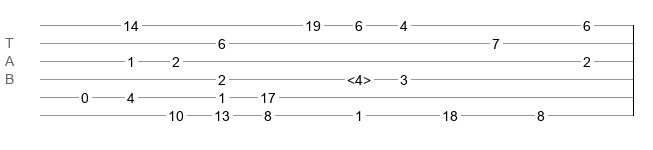0: (81, 90, 89, 100)
1: (127, 54, 135, 64), (218, 90, 226, 100), (355, 108, 363, 118)
10: (168, 108, 184, 118)
13: (214, 108, 230, 118)
14: (123, 18, 139, 28)
17: (260, 90, 276, 100)
18: (442, 108, 458, 118)
19: (305, 18, 321, 28)
2: (172, 54, 180, 64), (218, 72, 226, 82), (583, 54, 591, 64)
3: (400, 72, 408, 82)
4: (127, 90, 135, 100), (400, 18, 408, 28)
6: (218, 36, 226, 46), (355, 18, 363, 28), (583, 18, 591, 28)
7: (492, 36, 500, 46)
8: (264, 108, 272, 118), (537, 108, 545, 118)
harmonic: (347, 72, 371, 82)
